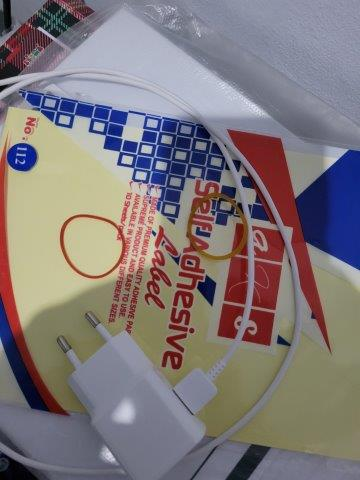karet: (60, 215, 126, 280), (189, 193, 249, 260)
